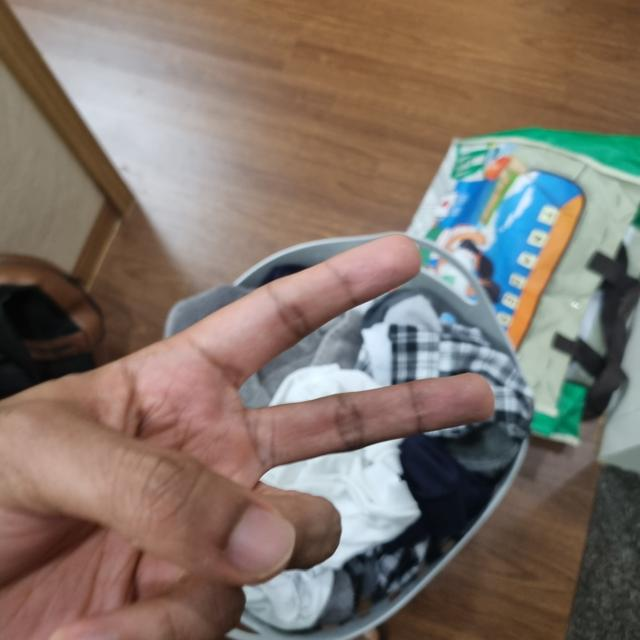Scissors: (0, 241, 485, 638)
